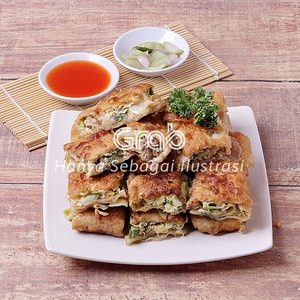martabak: (61, 83, 252, 242)
